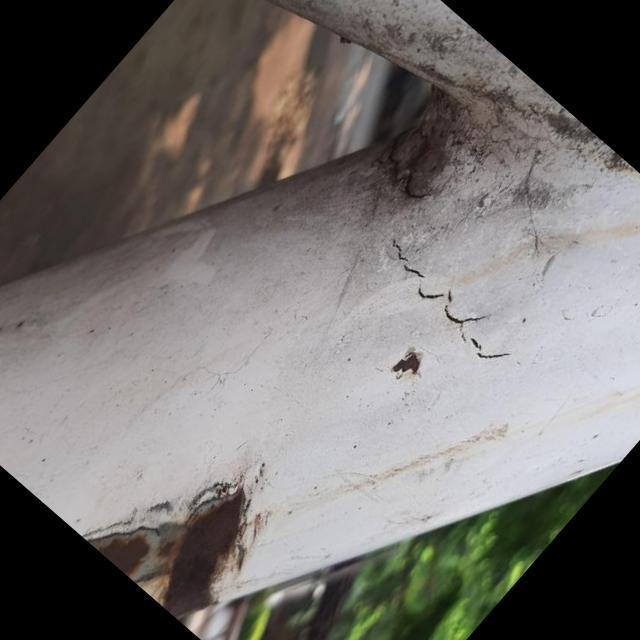defect: (383, 237, 516, 364)
